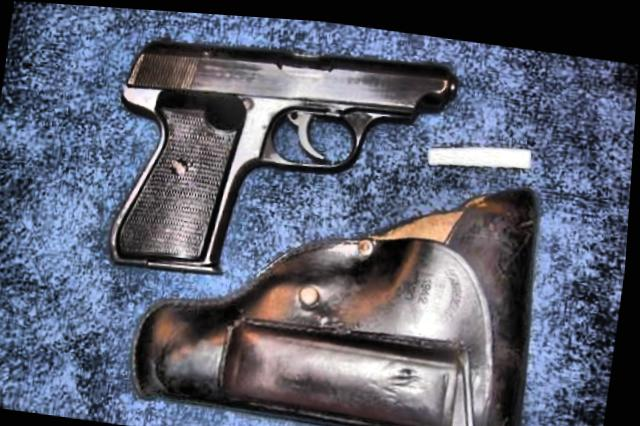pistol: (97, 15, 462, 302)
